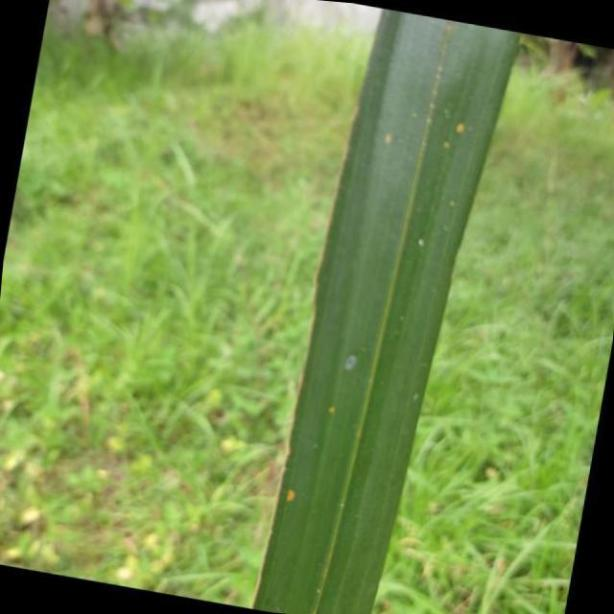Kalium: (248, 0, 521, 614)
